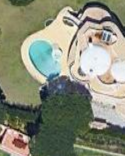pool: (31, 41, 60, 76)
